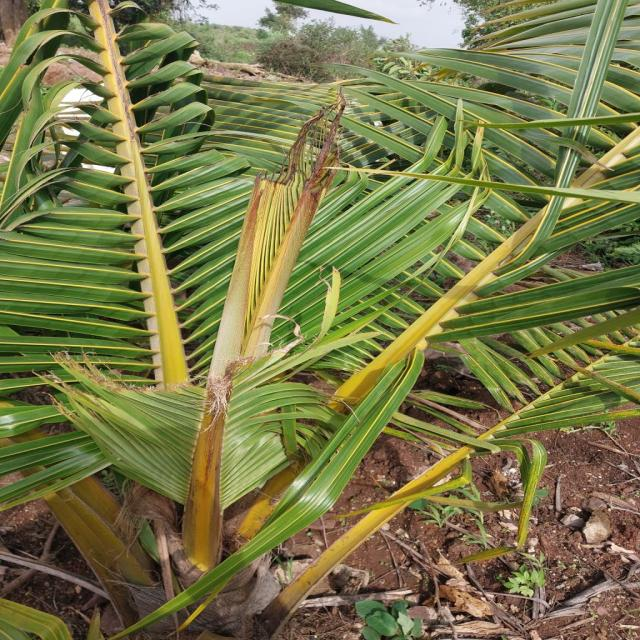bud rot: (183, 95, 345, 571)
